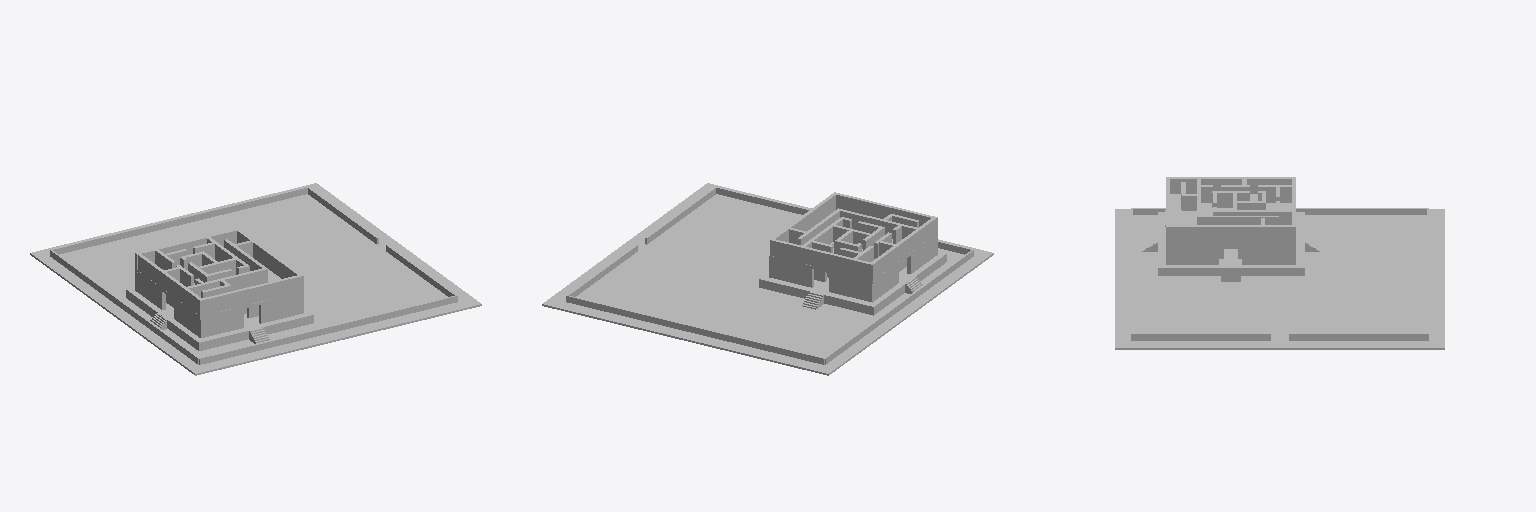
File: tamesiCol5.obj
3 renders of one model, left to right at view 1: azimuth 30°, elevation 25°; view 2: azimuth 150°, elevation 25°; view 3: azimuth 270°, elevation 25°, orthographic.
Visible parts, largest first — view 1: grond, Cube.133, Cube.115, dodai, Cube.013, Cube.014, Cube.076, Cube.015, Cube.079, Cube.017, Cube.016; view 2: grond, Cube.133, Cube.115, dodai, Cube.014, Cube.077, Cube.015, Cube.013, Cube.016, Cube.017; view 3: grond, Cube.078, dodai, Cube.115, Cube.075, Cube.016, Cube.017, Cube.015, dodai.014, Cube.085.
Part boxes in pixels (x1,y1,x2,y2): grond: (30, 183, 481, 375); Cube.133: (135, 229, 300, 319); Cube.115: (135, 272, 303, 337); dodai: (126, 287, 313, 350); Cube.013: (199, 296, 456, 364); Cube.014: (50, 187, 307, 254); Cube.076: (198, 275, 303, 317); Cube.015: (50, 250, 198, 364); Cube.079: (186, 268, 267, 296); Cube.017: (307, 187, 378, 244); Cube.016: (386, 244, 457, 301); grond: (542, 183, 993, 375); Cube.133: (770, 192, 937, 282); Cube.115: (769, 236, 937, 302); dodai: (759, 251, 946, 315); Cube.014: (568, 295, 824, 364); Cube.077: (770, 239, 874, 283); Cube.015: (825, 250, 973, 364); Cube.013: (716, 187, 973, 254); Cube.016: (645, 187, 716, 244); Cube.017: (566, 244, 637, 302); grond: (1115, 209, 1444, 349); Cube.078: (1168, 225, 1294, 245); dodai: (1158, 212, 1304, 275); Cube.115: (1166, 244, 1295, 264); Cube.075: (1169, 177, 1293, 193); Cube.016: (1131, 333, 1270, 340); Cube.017: (1289, 333, 1428, 340); Cube.015: (1133, 208, 1426, 214); dodai.014: (1165, 194, 1295, 244); Cube.085: (1198, 216, 1278, 224).
Size of the model in its own units: 160 by 26 by 160.